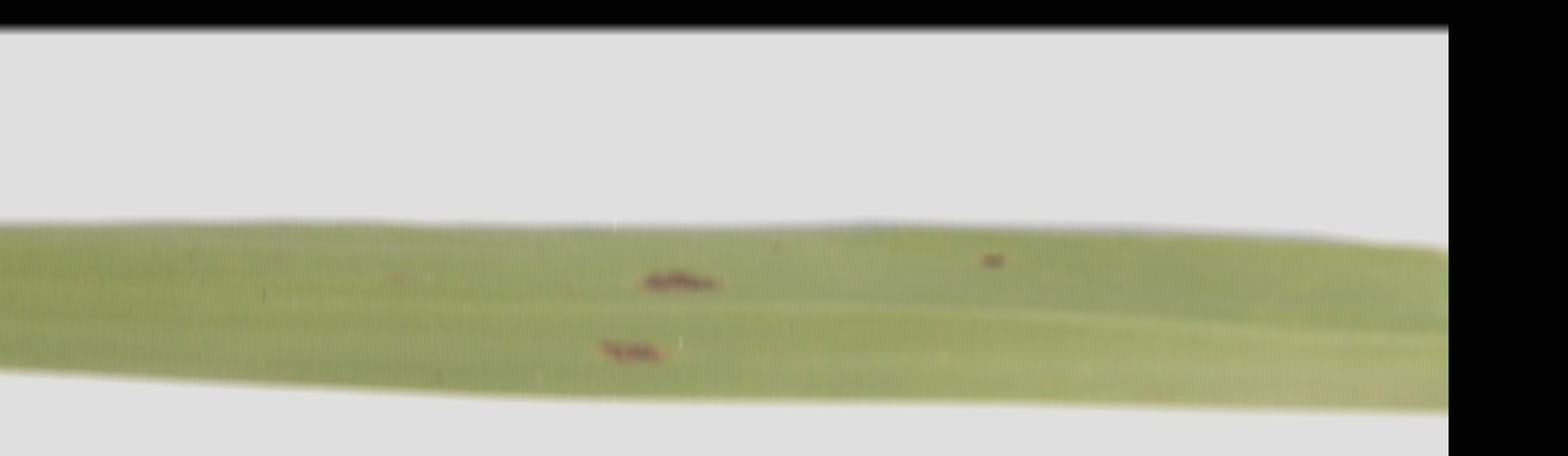Bacterial_Leaf_Blight: (586, 248, 739, 315), (551, 333, 675, 372), (945, 244, 1031, 282)
